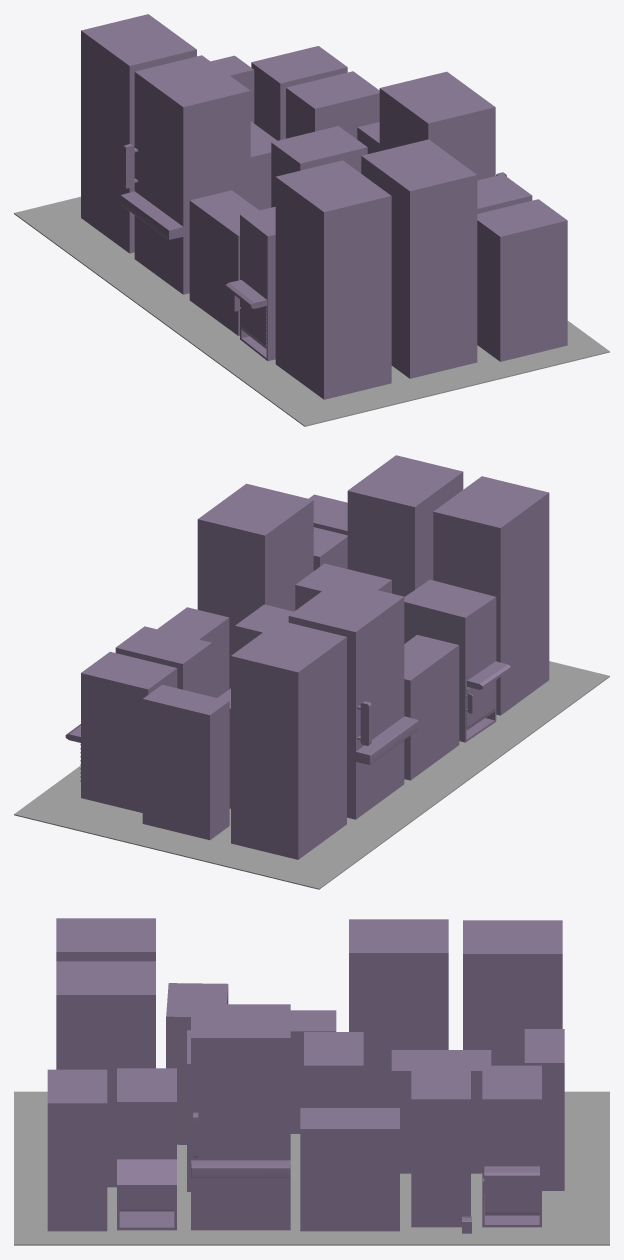
The model's file is slums_mod2.fbx.
3 views of the same model, one above another, from view 1: azimuth 30°, elevation 25°; view 2: azimuth 150°, elevation 25°; view 3: azimuth 270°, elevation 25° (orthographic). The views are drawn at different scales.
Parts seen in each view (by area): view 1: small_building1 (×2), small_building17, small_building18, sidewalk10, small_building19, small_building6, square_building6, small_building10, shop_1, shop_3, small_building8, square_building7 (+5 smaller); view 2: small_building1 (×2), small_building6, sidewalk10, small_building17, small_building3, small_building18, shop_1, shop_3, square_building6, small_building10, sign, small_building9 (+5 smaller); view 3: small_building1 (×2), sidewalk10, small_building6, sign, small_building18, small_building19, small_building10, shop_1, shop_2, square_building7, small_building8, small_building17 (+8 smaller).
Part boxes in pixels (bbox=[...]): small_building1 (×2): bbox=[120, 55, 495, 294]; small_building17: bbox=[275, 160, 391, 399]; small_building18: bbox=[361, 139, 477, 378]; sidewalk10: bbox=[14, 196, 609, 426]; small_building19: bbox=[477, 199, 567, 361]; small_building6: bbox=[81, 14, 196, 253]; square_building6: bbox=[189, 190, 258, 335]; small_building10: bbox=[286, 71, 379, 139]; shop_1: bbox=[251, 46, 347, 140]; shop_3: bbox=[240, 206, 275, 360]; small_building8: bbox=[271, 126, 367, 207]; square_building7: bbox=[250, 121, 277, 210]; small_building1 (×2): bbox=[197, 483, 418, 819]; small_building6: bbox=[231, 620, 346, 859]; sidewalk10: bbox=[14, 661, 609, 889]; small_building17: bbox=[433, 476, 549, 715]; small_building3: bbox=[142, 684, 229, 840]; small_building18: bbox=[347, 455, 463, 596]; shop_1: bbox=[81, 651, 177, 812]; shop_3: bbox=[404, 579, 496, 742]; square_building6: bbox=[404, 635, 459, 780]; small_building10: bbox=[115, 626, 211, 696]; sign: bbox=[157, 607, 229, 697]; small_building9: bbox=[295, 563, 391, 610]; small_building1 (×2): bbox=[191, 919, 448, 1230]; sidewalk10: bbox=[14, 1091, 609, 1245]; small_building6: bbox=[463, 920, 562, 1065]; sign: bbox=[300, 1108, 399, 1231]; small_building18: bbox=[56, 961, 155, 1187]; small_building19: bbox=[47, 1069, 107, 1231]; small_building10: bbox=[411, 1065, 470, 1227]; shop_1: bbox=[482, 1065, 541, 1227]; shop_2: bbox=[117, 1068, 176, 1230]; square_building7: bbox=[391, 1050, 491, 1173]; small_building8: bbox=[304, 1032, 363, 1107]; small_building17: bbox=[56, 918, 155, 961].
Bounding box in the file's own units: 36.25 × 21.53 × 59.82.
